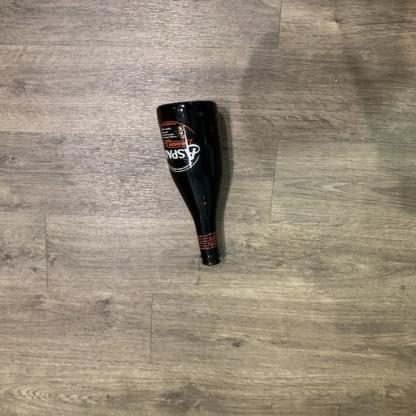trash: (152, 100, 236, 268)
